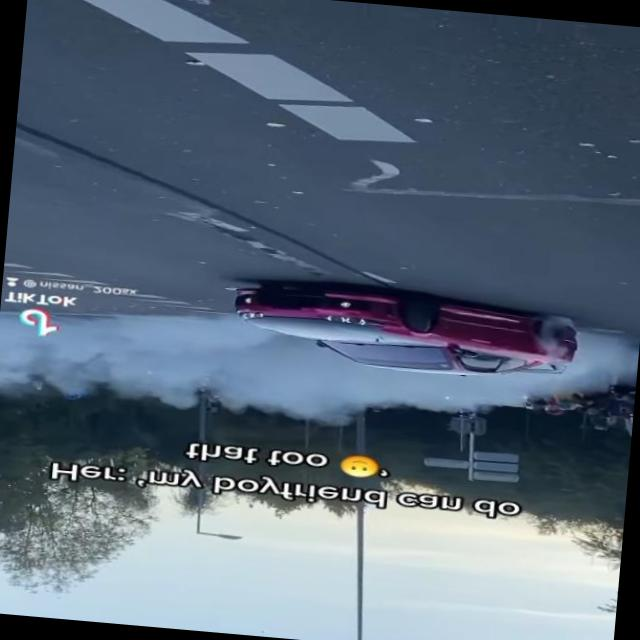car: (228, 276, 590, 388)
